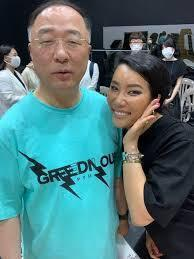Tshirt: (1, 87, 132, 259), (121, 113, 194, 259)
